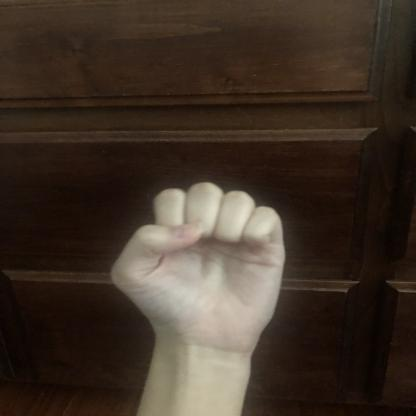fist: (108, 176, 287, 348)
